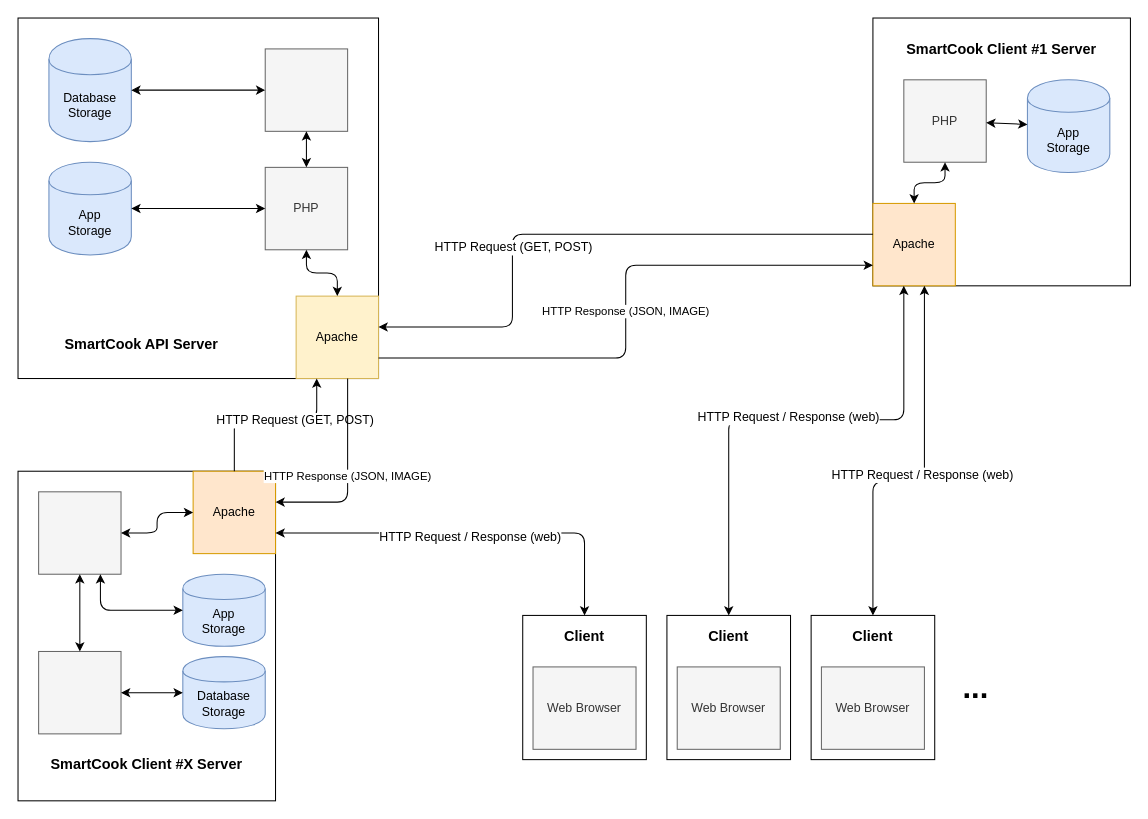
Some shapes in this 1148 by 819 pixel diagram are drawn without their labels. Here are the shapes that lost their labels. From the top down, the box of each, then its label:
(264, 48, 348, 131): MySQL
(38, 491, 121, 574): PHP Python Node.js
(38, 650, 121, 734): DDMS
